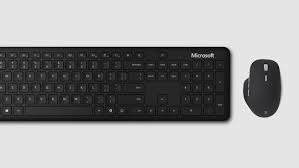keyboard: (0, 43, 235, 126)
mouse: (235, 55, 281, 119)
